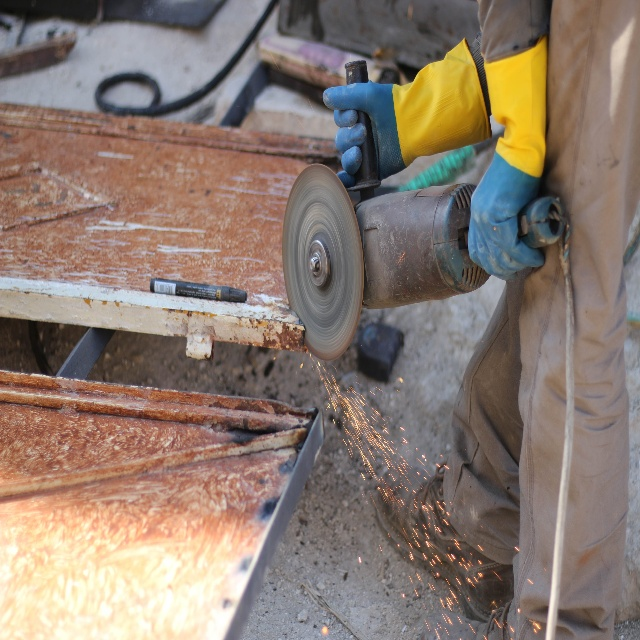Guantes: (323, 37, 493, 190), (467, 34, 549, 283)
